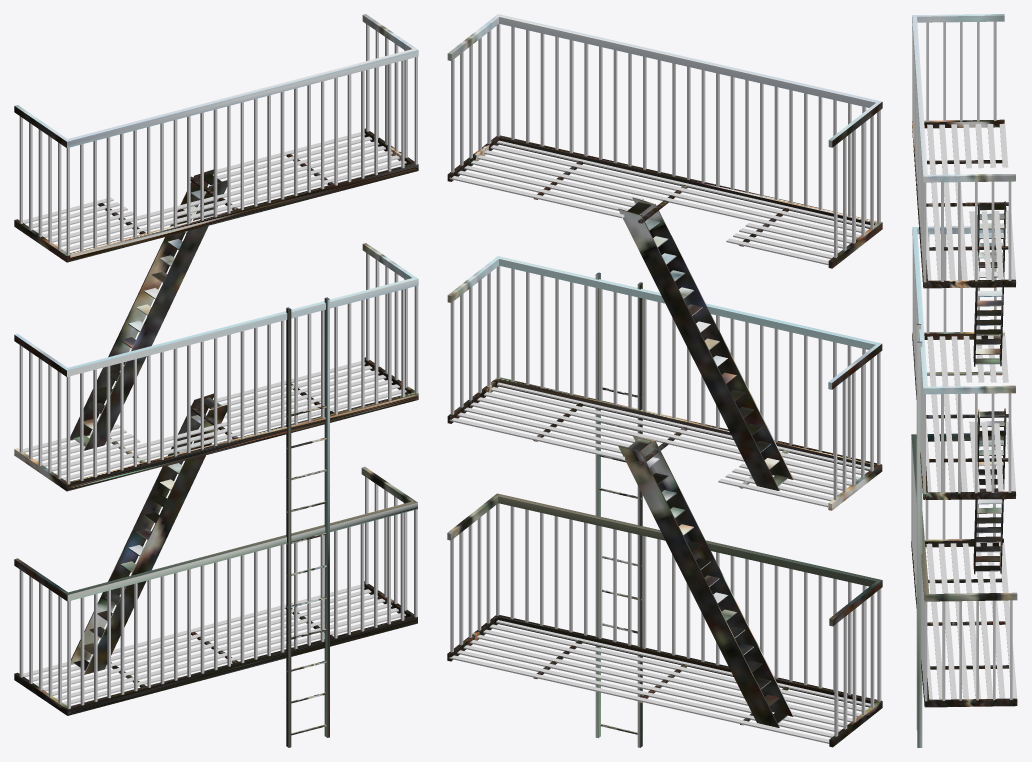
The model's file is FireExitBuilding5.fbx.
3 renders of one model, left to right at view 1: azimuth 30°, elevation 25°; view 2: azimuth 150°, elevation 25°; view 3: azimuth 270°, elevation 25°, orthographic. The views are drawn at different scales.
Parts seen in each view (by area): view 1: Cube.116; view 2: Cube.116; view 3: Cube.116.
Boxes of the visible parts, x1=… form: Cube.116: x1=14, y1=14, x2=418, y2=747; Cube.116: x1=447, y1=14, x2=882, y2=747; Cube.116: x1=911, y1=14, x2=1017, y2=747.
Bounding box in the file's own units: 499 × 876 × 138.
